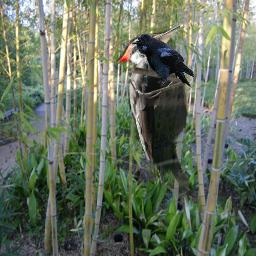Crow: (131, 33, 195, 88)
Woodpecker: (116, 25, 189, 211)
